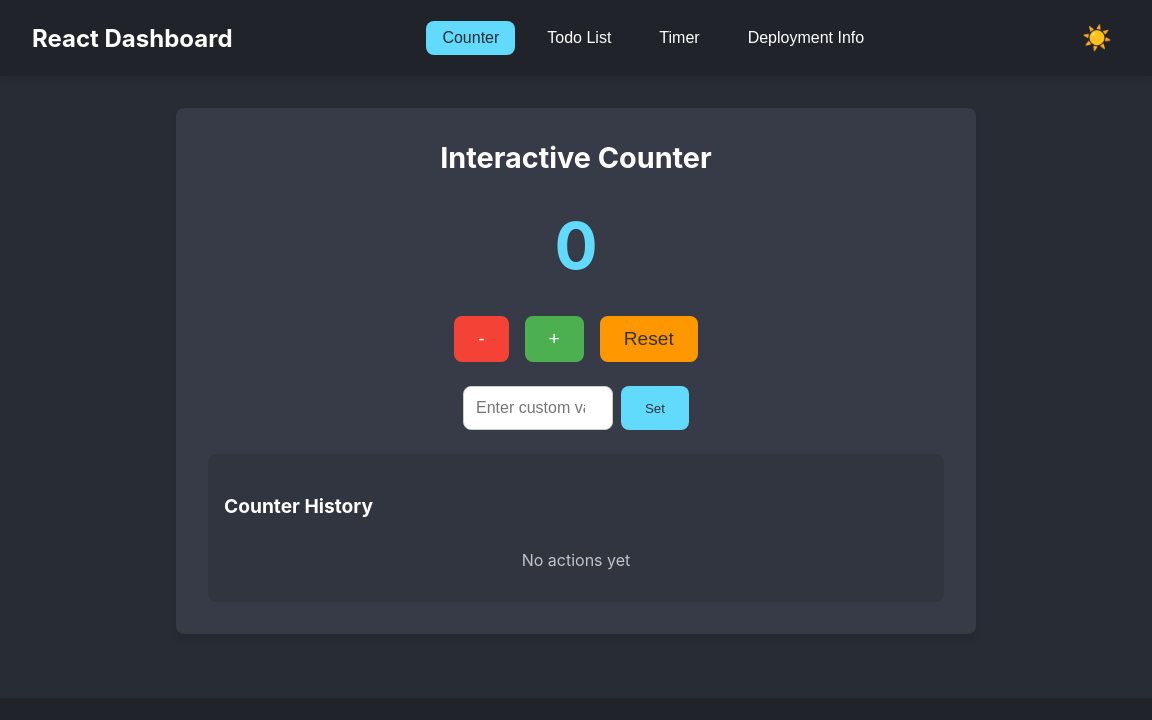
Test: App Component › timer functionality works correctly
// Navigate to Timer tab
Click the button "Timer" at (680, 38), box [643,21,716,55]
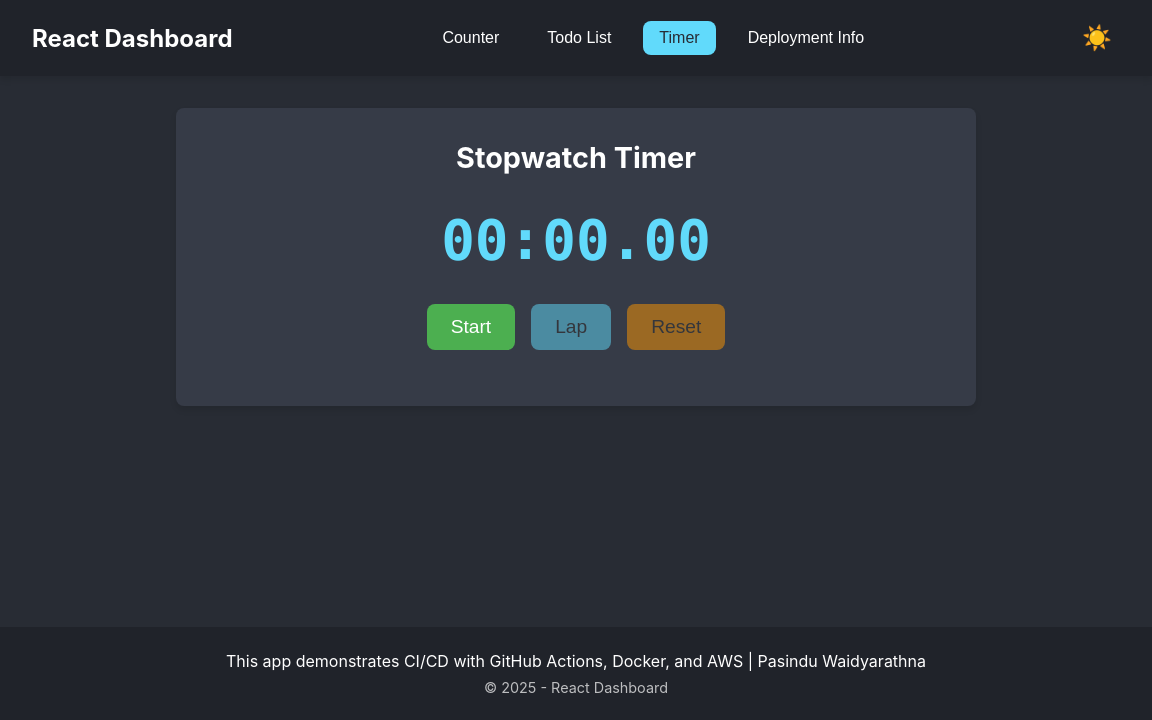
Expected: the text "00:00.00" is shown, [441,207,711,272]
Expected: the button "Start" is shown, [427,304,515,350]
Expected: the button "Reset" is disabled, [627,304,725,350]
